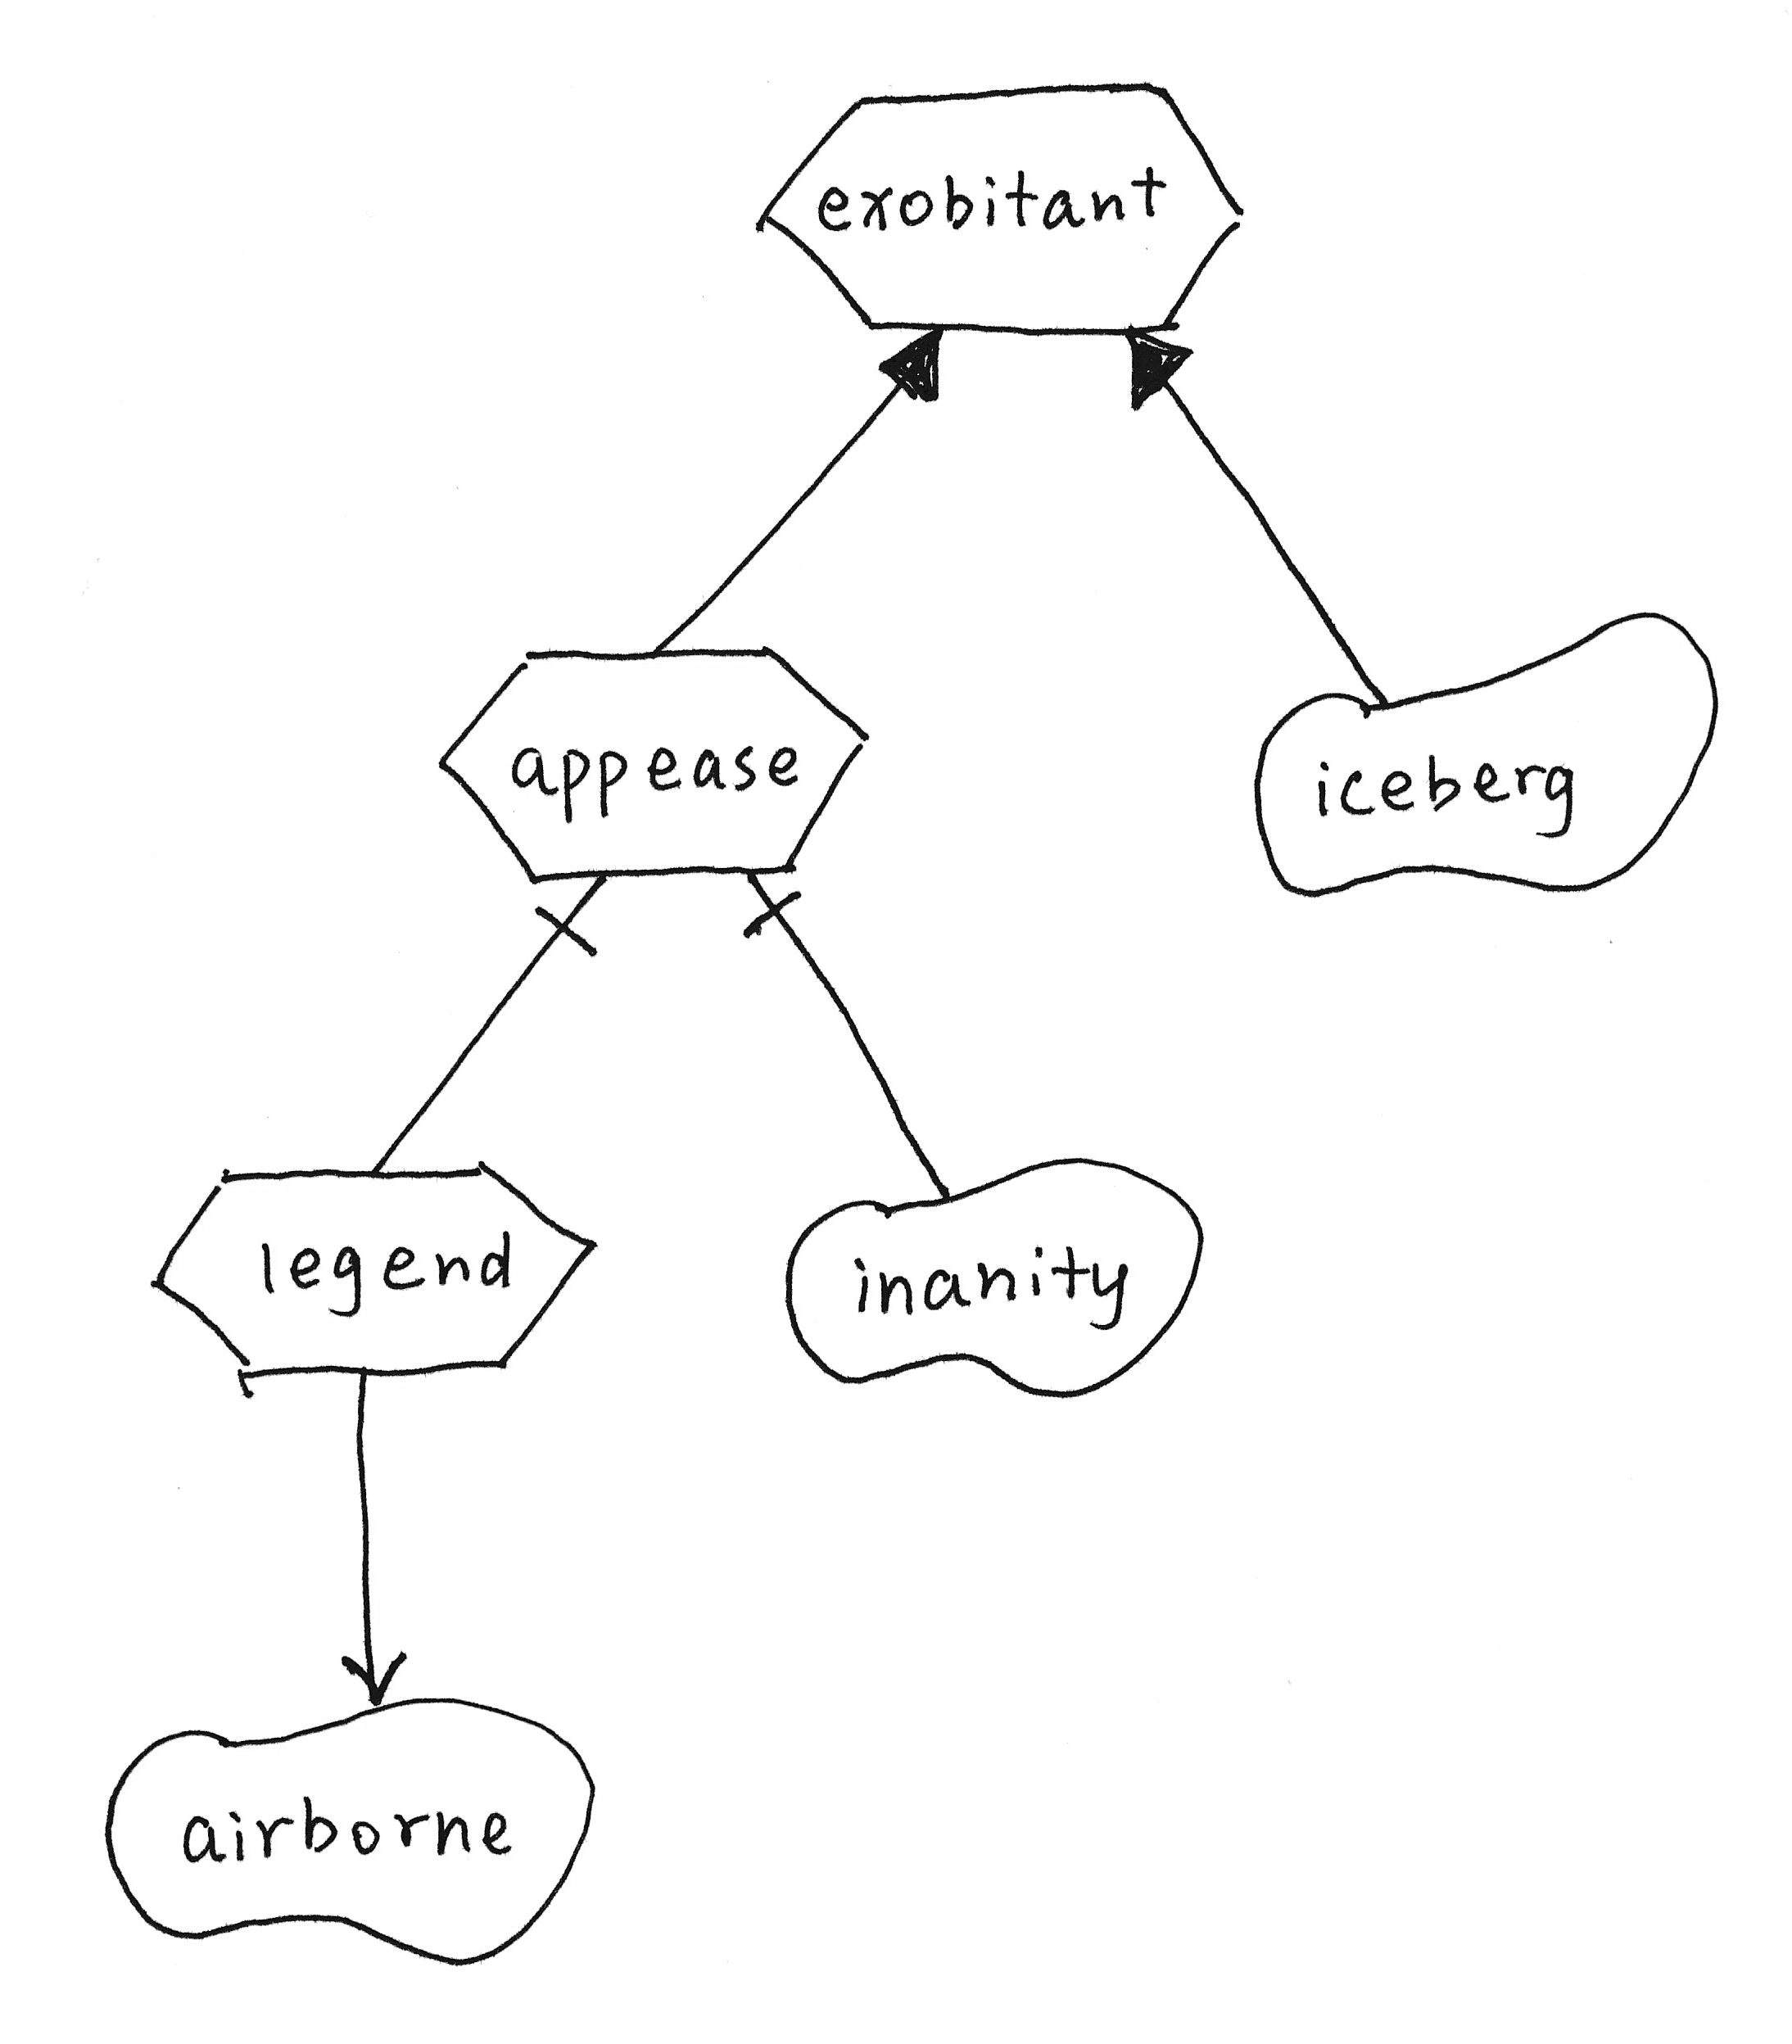and: (523, 862, 626, 973), (711, 859, 826, 952)
arrow: (318, 1632, 431, 1731)
or: (855, 313, 982, 412), (1098, 311, 1210, 421)
quality: (1229, 591, 1740, 921), (82, 1677, 626, 1973), (768, 1138, 1222, 1410)
task: (730, 56, 1269, 355), (129, 1137, 621, 1410), (426, 619, 885, 895)
